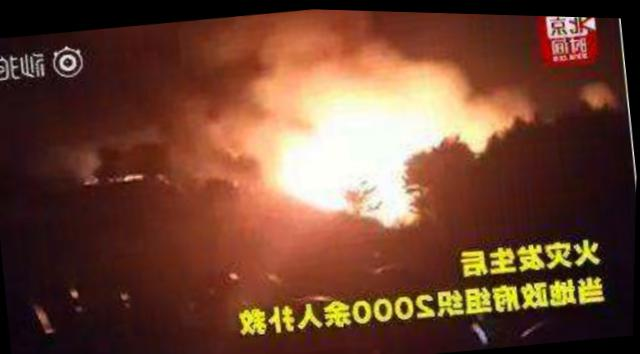fire: (253, 76, 510, 240)
